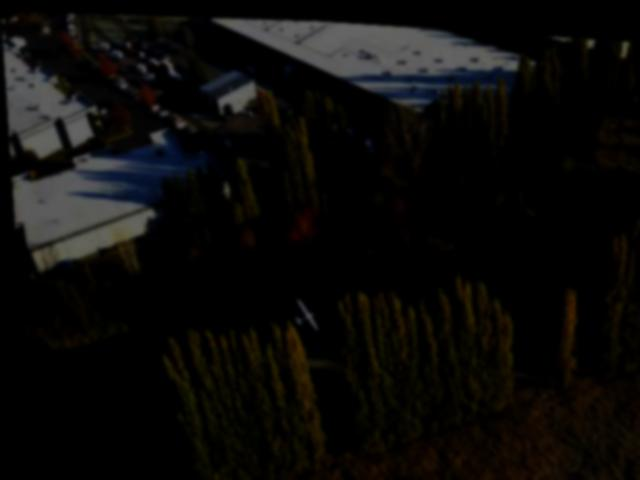uav: (281, 283, 328, 334)
